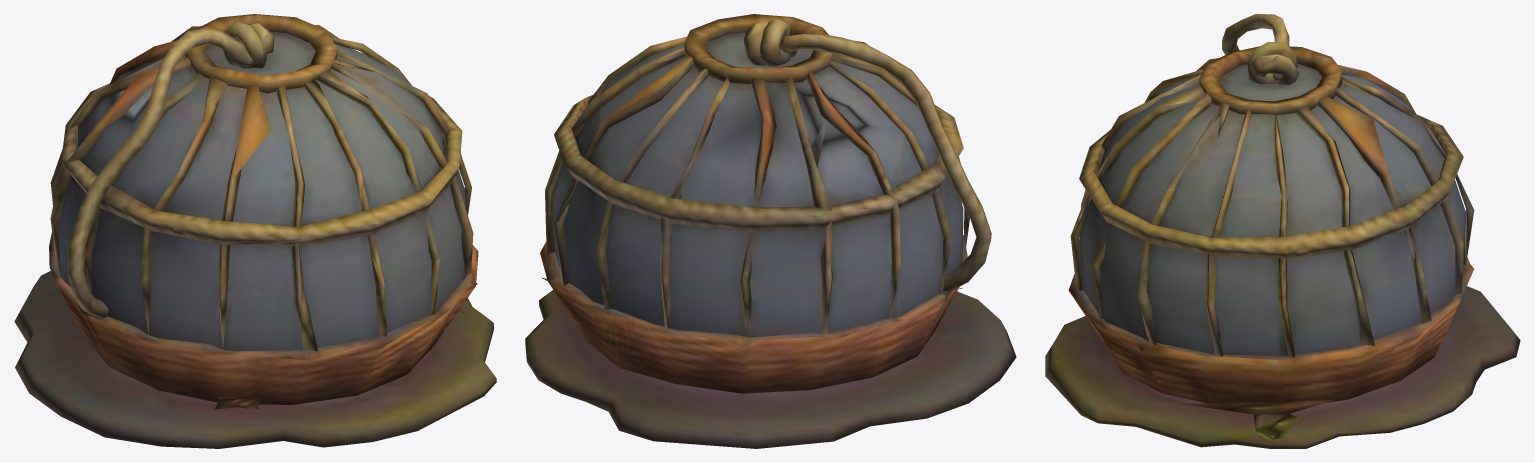
Rendered from wyn_quest_crab_pot.glb.
3 views of the same model, side by side, from view 1: azimuth 30°, elevation 25°; view 2: azimuth 150°, elevation 25°; view 3: azimuth 270°, elevation 25° (orthographic). The views are drawn at different scales.
Visible parts, largest first — view 1: tripo_node_447d91f7-0d5b-430d-8ae4-6c51a41aab7c; view 2: tripo_node_447d91f7-0d5b-430d-8ae4-6c51a41aab7c; view 3: tripo_node_447d91f7-0d5b-430d-8ae4-6c51a41aab7c.
Part boxes in pixels (left/top/right/bottom): tripo_node_447d91f7-0d5b-430d-8ae4-6c51a41aab7c: left=14, top=14, right=496, bottom=448; tripo_node_447d91f7-0d5b-430d-8ae4-6c51a41aab7c: left=525, top=14, right=1016, bottom=448; tripo_node_447d91f7-0d5b-430d-8ae4-6c51a41aab7c: left=1045, top=14, right=1520, bottom=448.
Size of the model in its own units: 0.8208 by 0.6 by 0.8319.
1 material, 1 textured.
